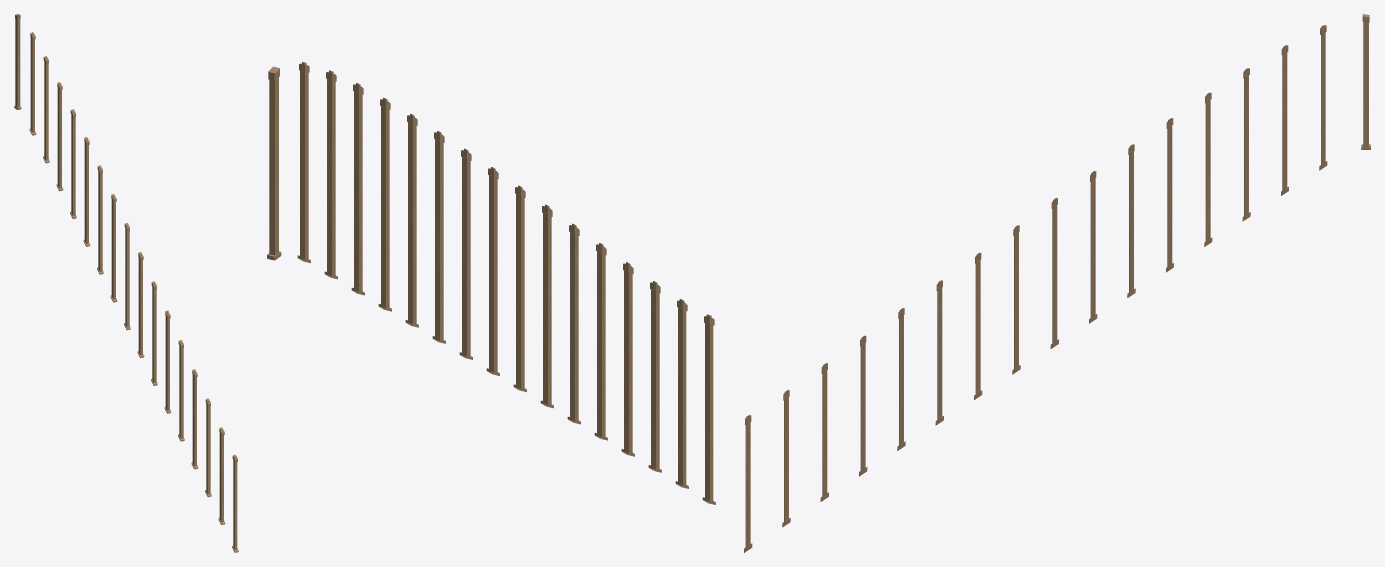
The model's file is stairs-support-v10.glb.
The picture shows the model from 3 angles, left to right: view 1: azimuth 30°, elevation 25°; view 2: azimuth 150°, elevation 25°; view 3: azimuth 270°, elevation 25°; orthographic projection. The views are drawn at different scales.
Parts seen in each view (by area): view 1: v9_stairs_support; view 2: v9_stairs_support; view 3: v9_stairs_support.
Boxes of the visible parts, box(x1,y1,x2,y2) form: v9_stairs_support: box(14, 14, 238, 552); v9_stairs_support: box(267, 62, 715, 504); v9_stairs_support: box(744, 14, 1370, 552).
Bounding box in the file's own units: 0.039 × 3.47 × 3.68.
Materials: 1 (1 with a texture image).
